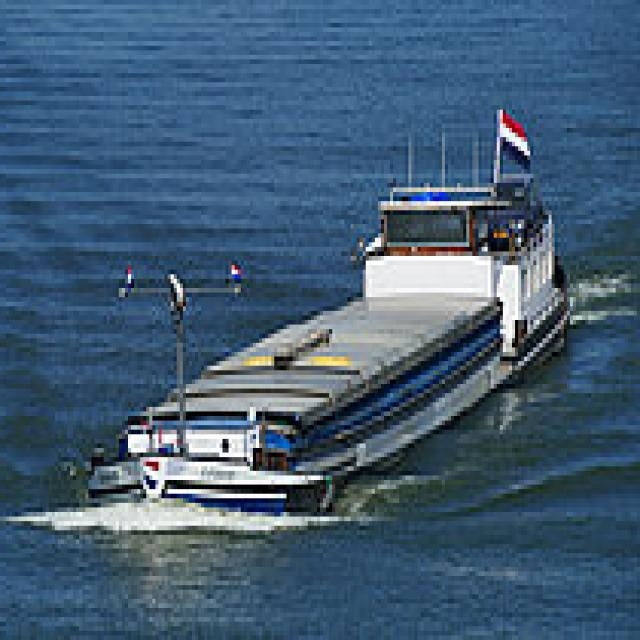Cargo: (88, 96, 579, 517)
